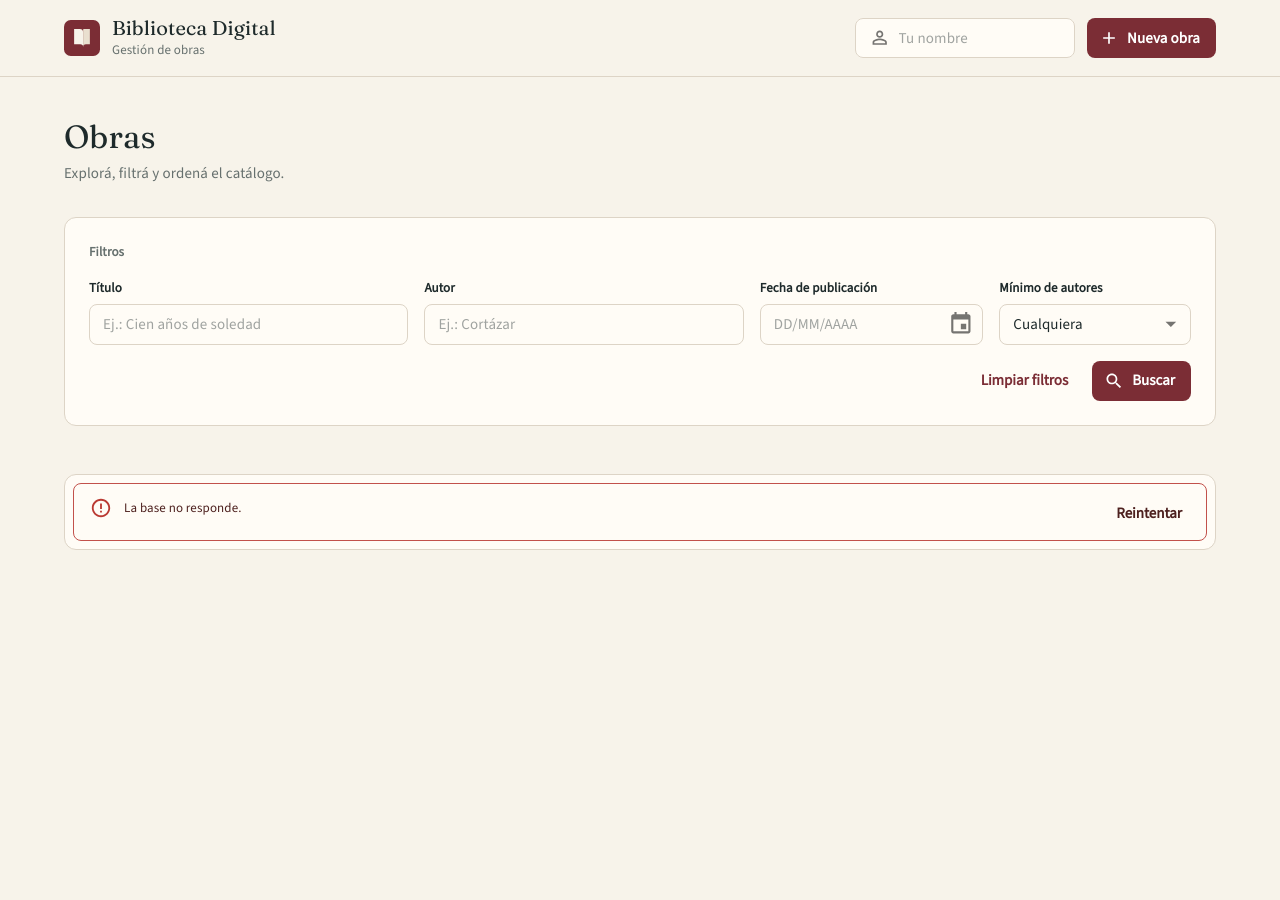
Listado de obras › muestra el error y reintenta
The width and height of the screenshot is (1280, 900).
Expected: the text "La base no responde." is shown, [124,499,242,516]
Click the button "Reintentar": click(1149, 514) [1100,494,1198,534]
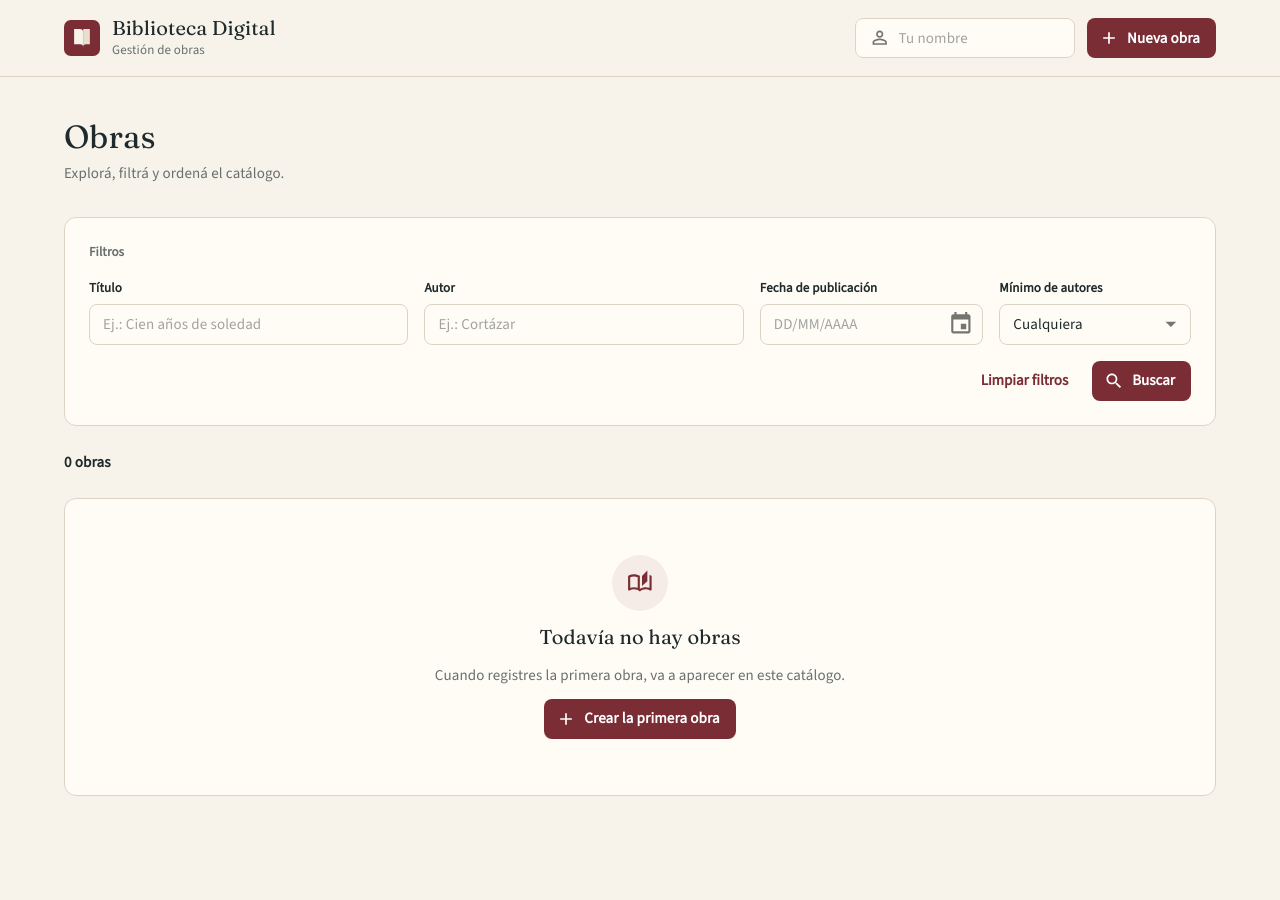
Now the text "Todavía no hay obras" is shown, box [539,623,741,651]
